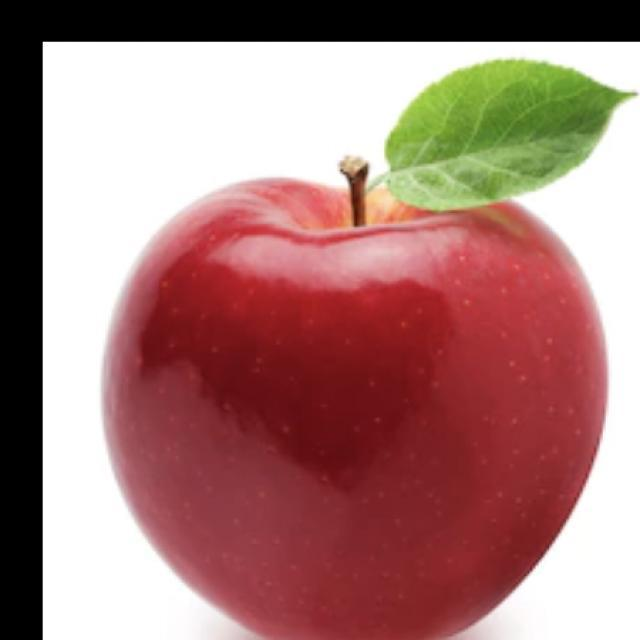Fresh Apple: (99, 158, 615, 640)
